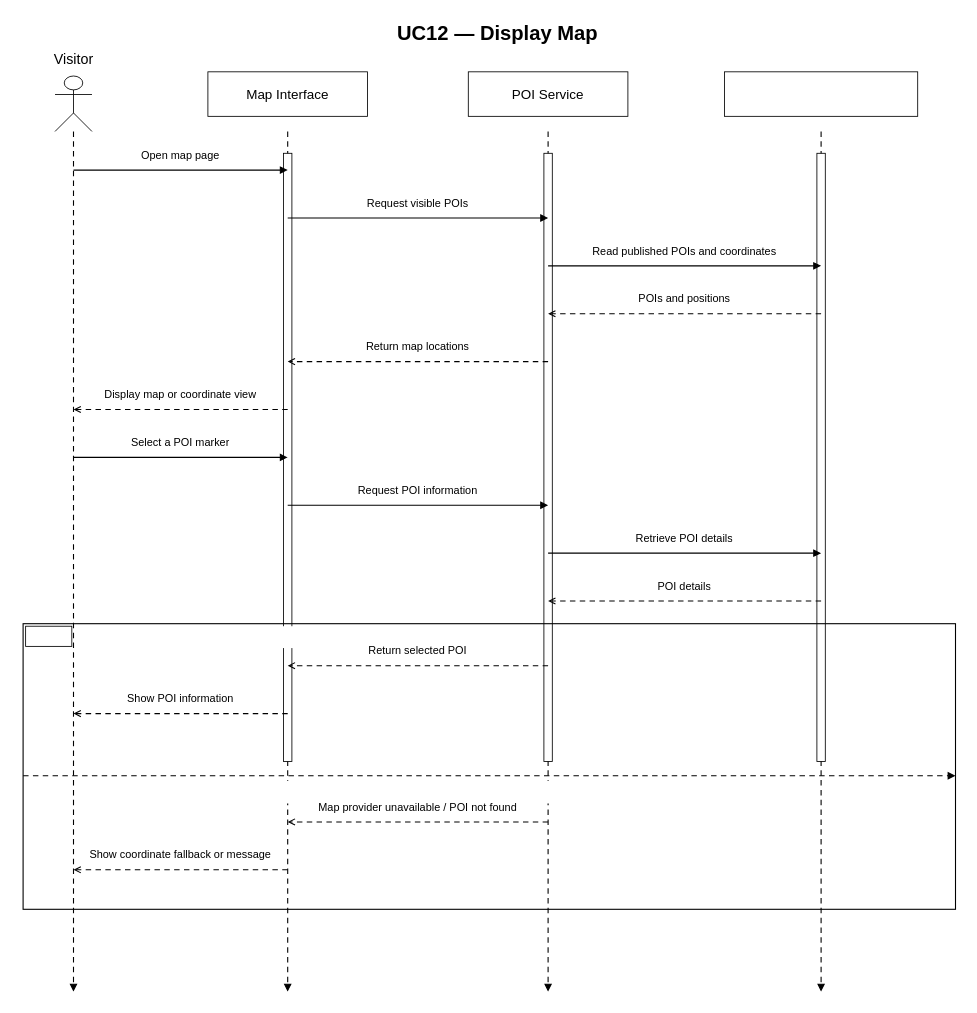
This 977x1013 diagram has some shape labels left out. Here are the shapes that lost their labels. From the top down, the box of each, then its label:
(724, 71, 918, 116): points_of_interest / campus_areas
(25, 625, 72, 646): alt
(81, 626, 493, 648): [Map data available]
(81, 780, 569, 803): [Map provider or POI unavailable]
